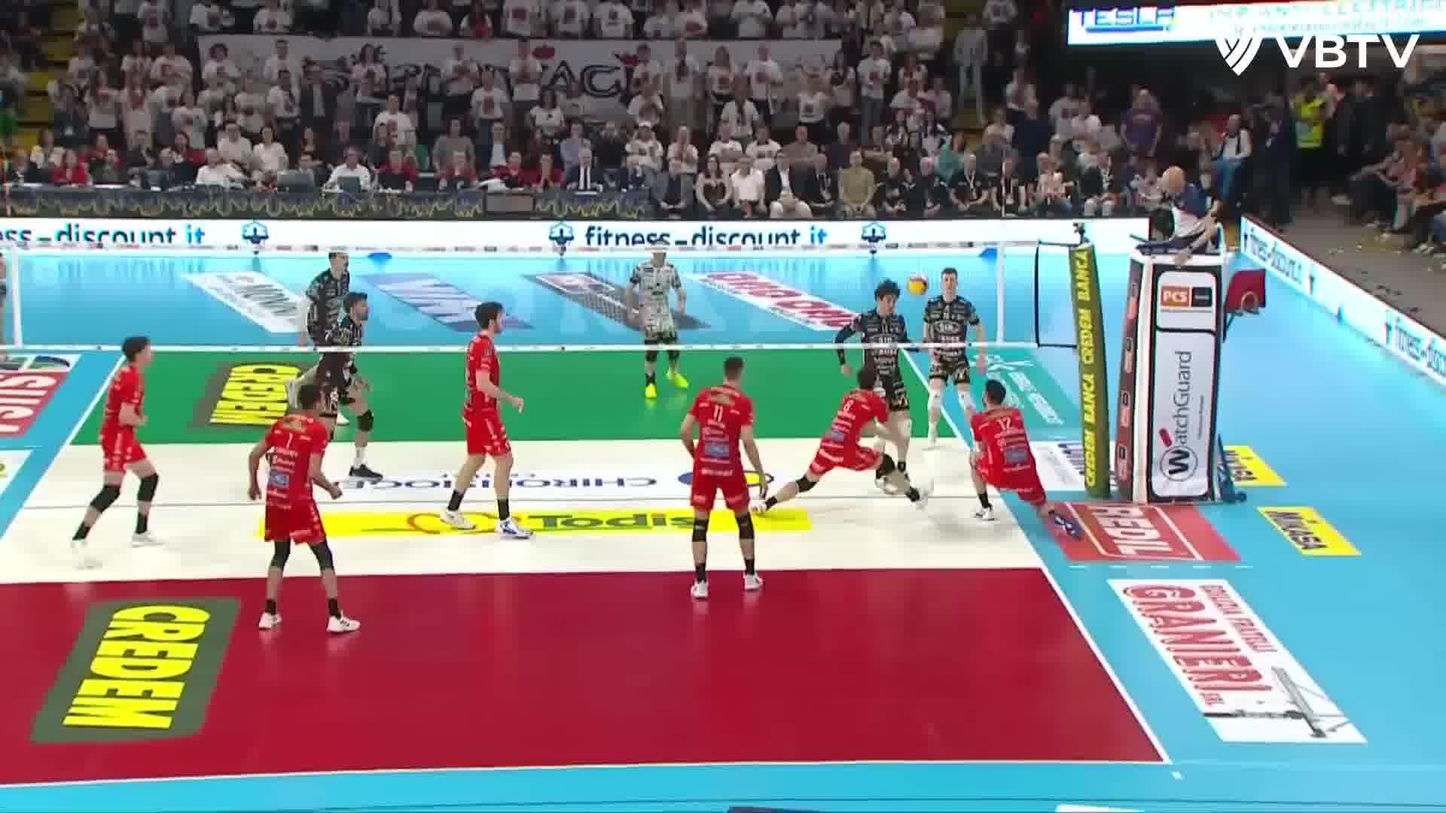balls: (907, 276, 932, 295)
